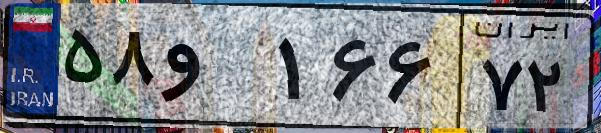1: (270, 28, 330, 110)
2: (525, 38, 570, 115)
5: (57, 26, 110, 100)
6: (385, 28, 445, 110), (330, 28, 385, 110)
7: (475, 38, 525, 113)
8: (110, 28, 158, 98)
و: (158, 20, 270, 120)
